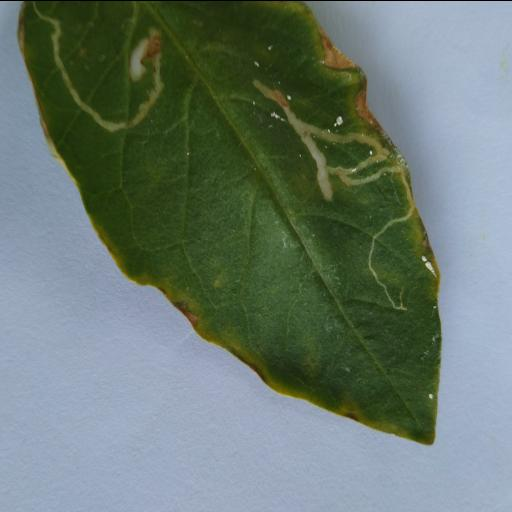disease_tomato: (15, 0, 440, 447)
